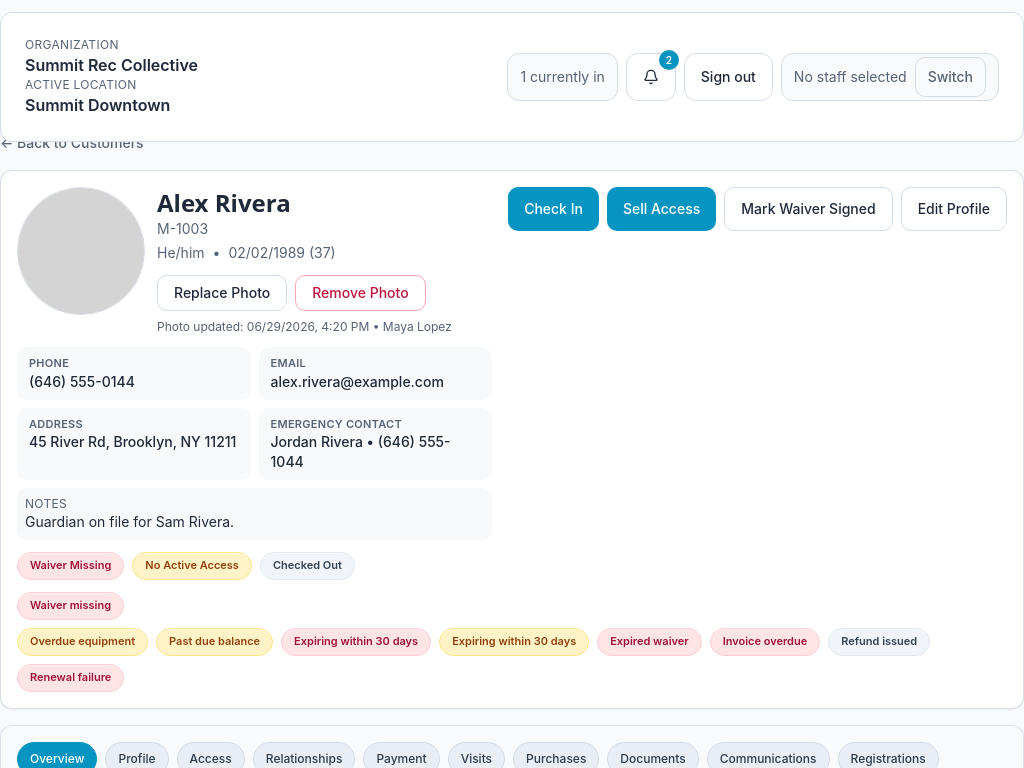
it: CustomerDetailPage › marking waiver signed updates customer profile with staff attribution
This screenshot has width=1024, height=768.
Click the button "Switch" at coordinates (950, 77), box [915,57,986,97]
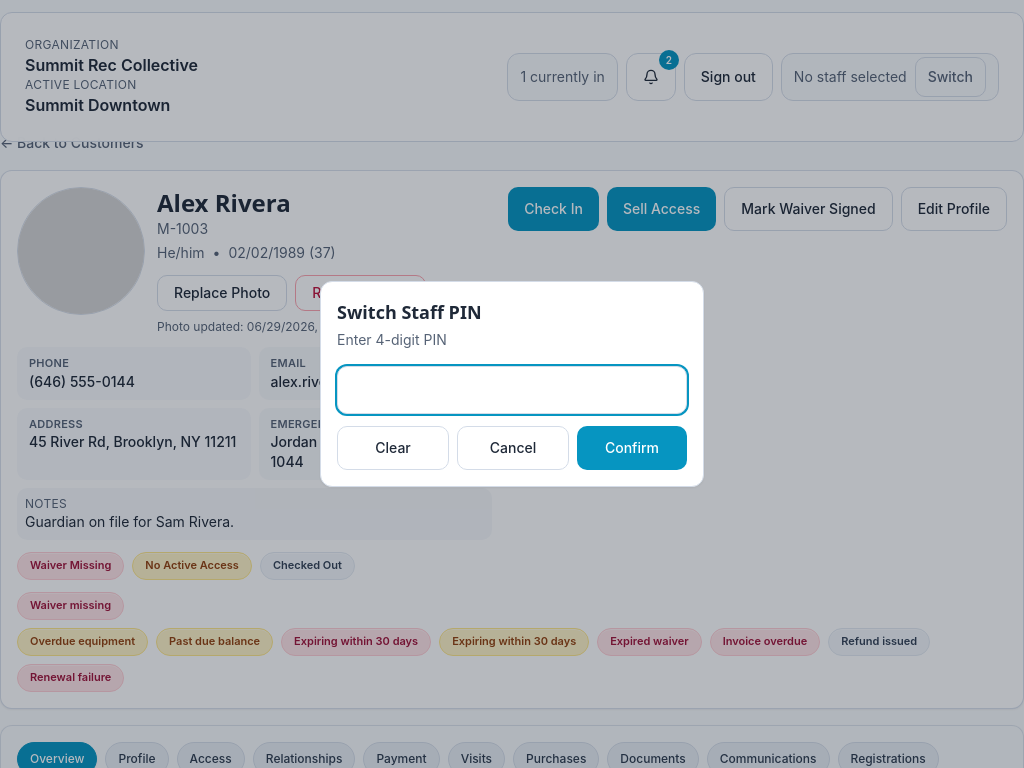
Type "3333" into the password field named "Staff PIN input" at coordinates (512, 390), box [337,366,687,414]
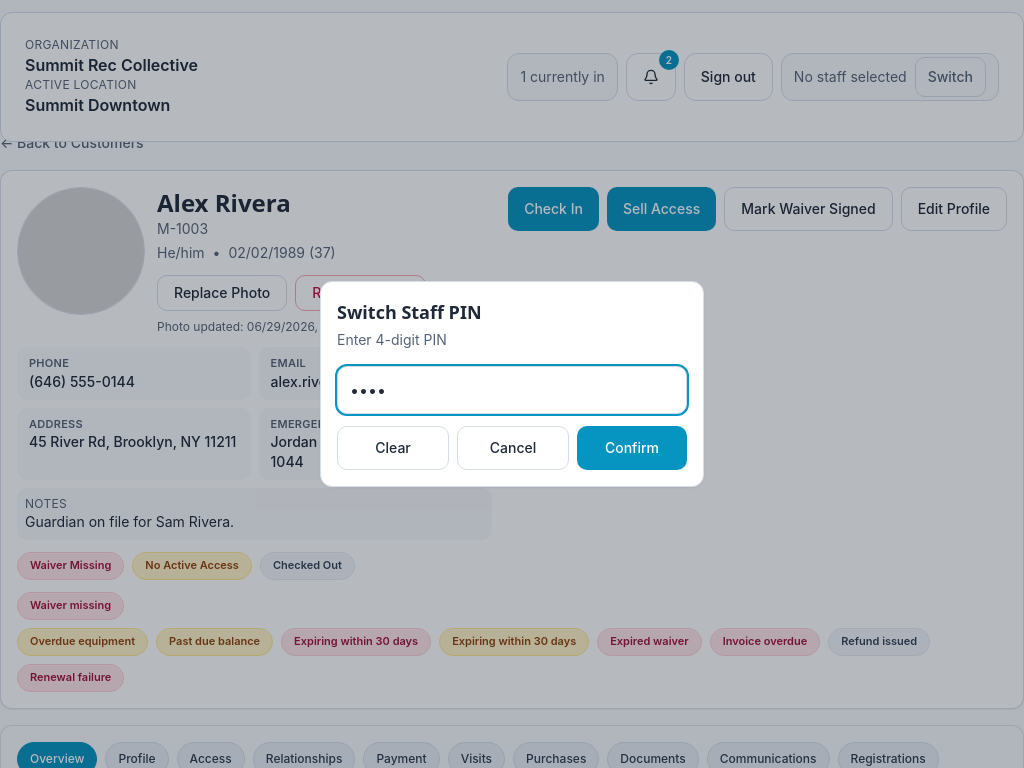
Click the button "Confirm" at coordinates (632, 448), box [577,426,687,470]
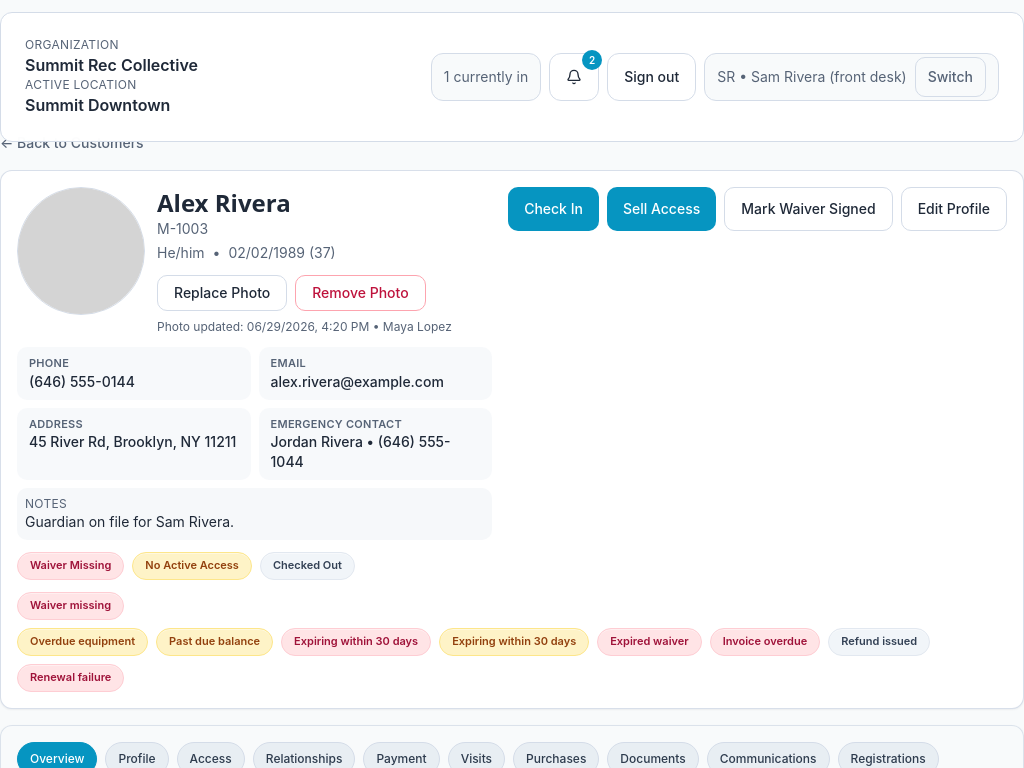
Click the button "Mark Waiver Signed" at coordinates (808, 209), box [724,187,893,231]
(page scrolled)
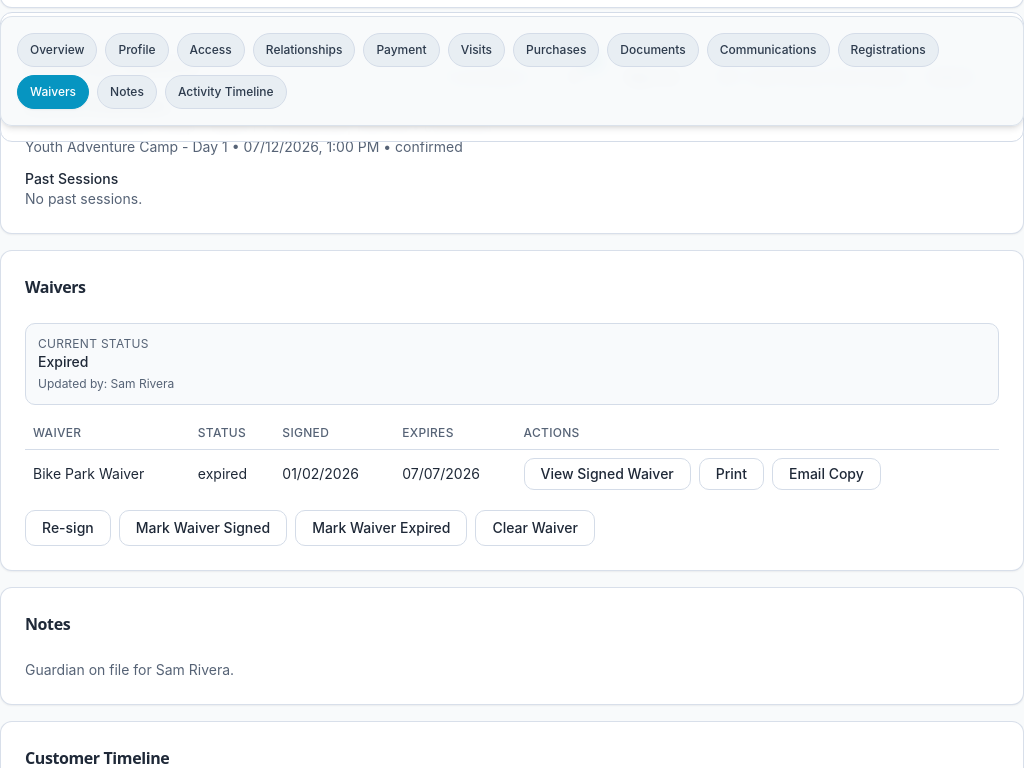
Now the text "Updated by: Sam Rivera" is shown, box [38,376,174,391]
